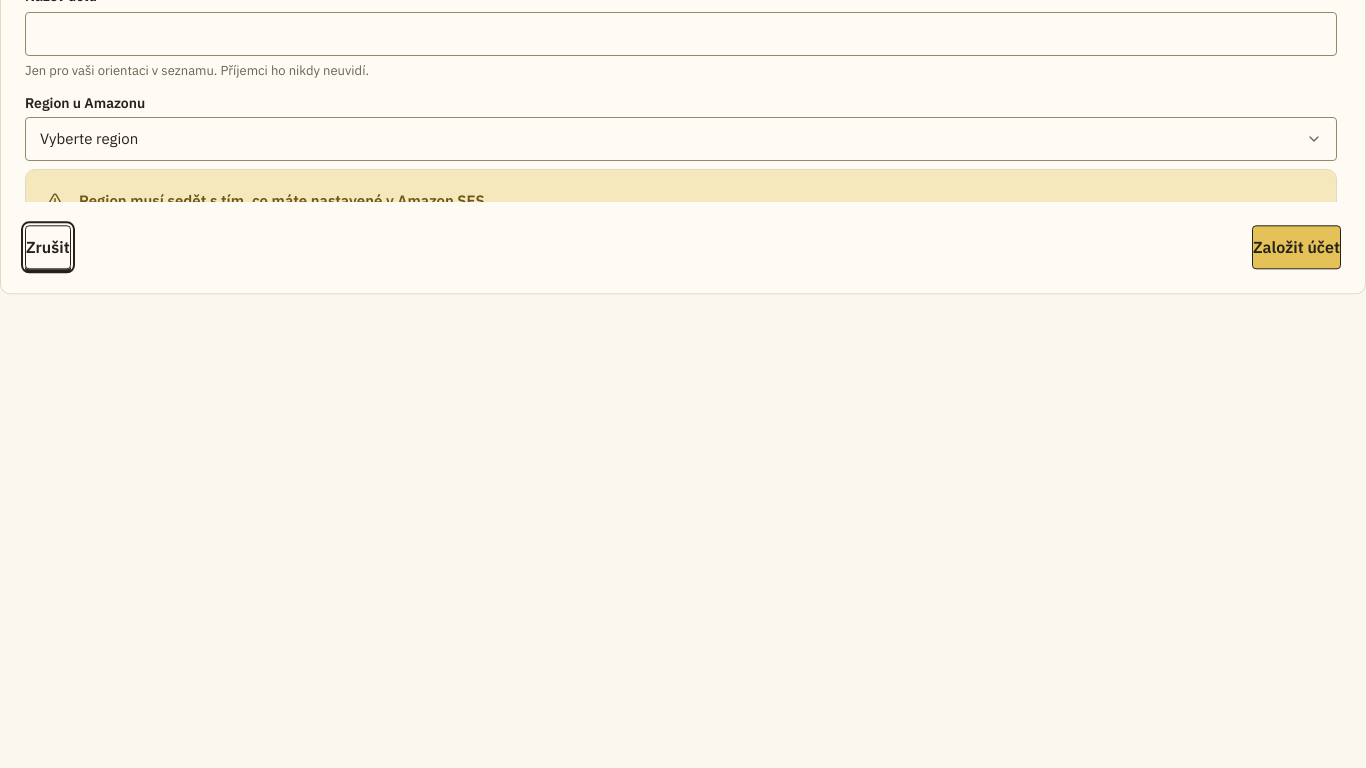
Scenario: dialog pro nový odesílací účet › prázdný formulář se neodešle a řekne u kterého pole je problém
The width and height of the screenshot is (1366, 768).
Click the button with test id "add-provider-submit": (1296, 248) top-left (1252, 226), bottom-right (1341, 270)
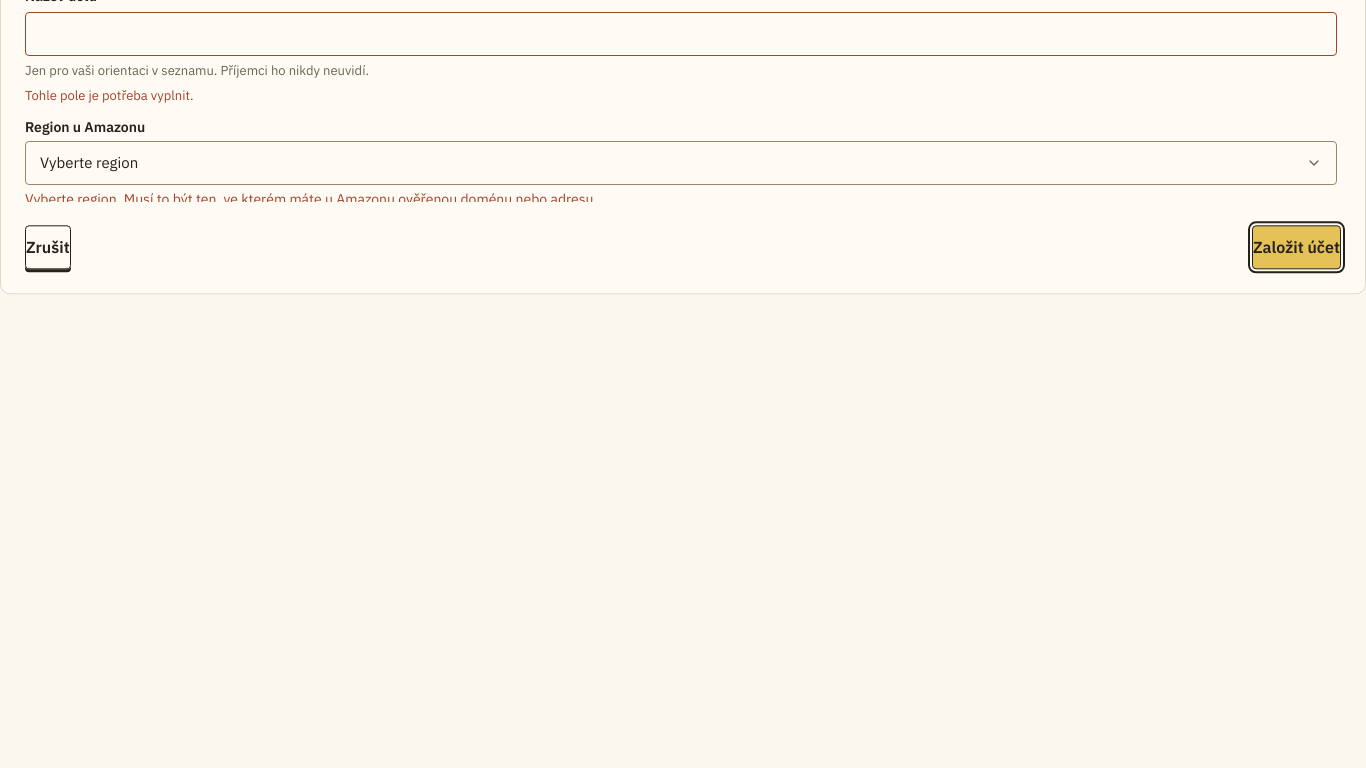
Result: the text "Tohle pole je potřeba vyplnit." is shown at top-left (25, 87), bottom-right (194, 104)
